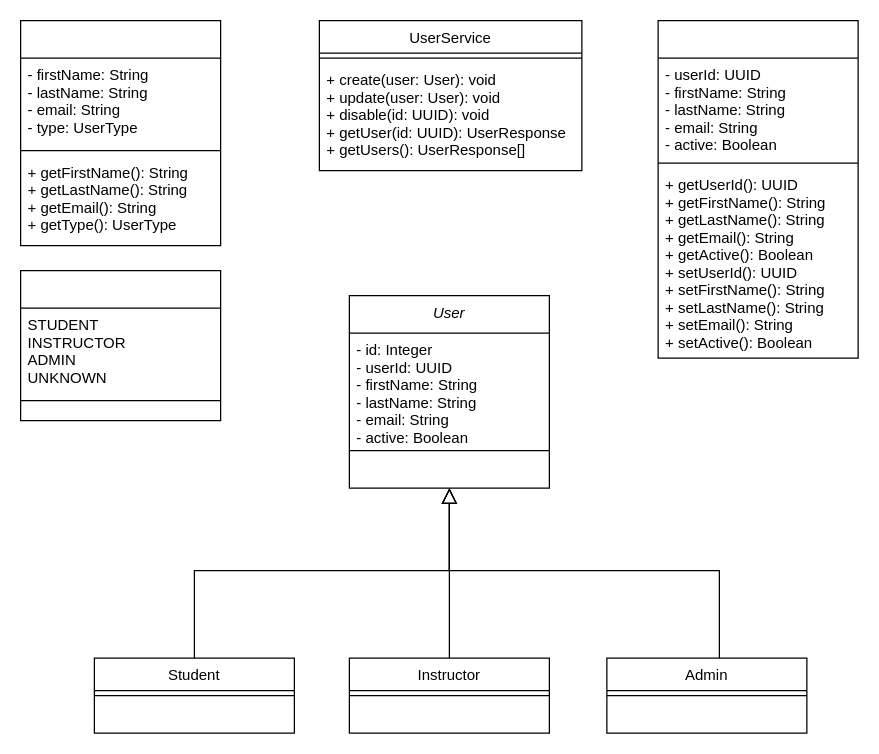
Some shapes in this 879 by 754 pixel diagram are drawn without their labels. The shapes that lost their labels are listed below. From the top down, each one's box as (x1, y1, x2, y2) in pixels, then its label:
(19, 19, 221, 246): UserRequestDTO
(657, 19, 858, 358): UserResponseDTO
(19, 269, 221, 421): UserType
